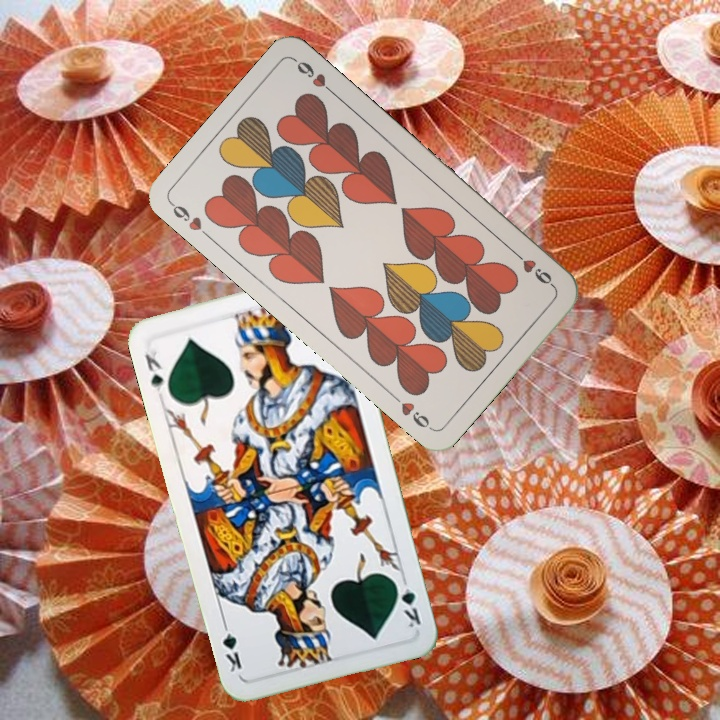GK: (390, 573, 424, 631), (141, 343, 166, 394)
H9: (167, 198, 215, 242), (509, 247, 557, 290)
